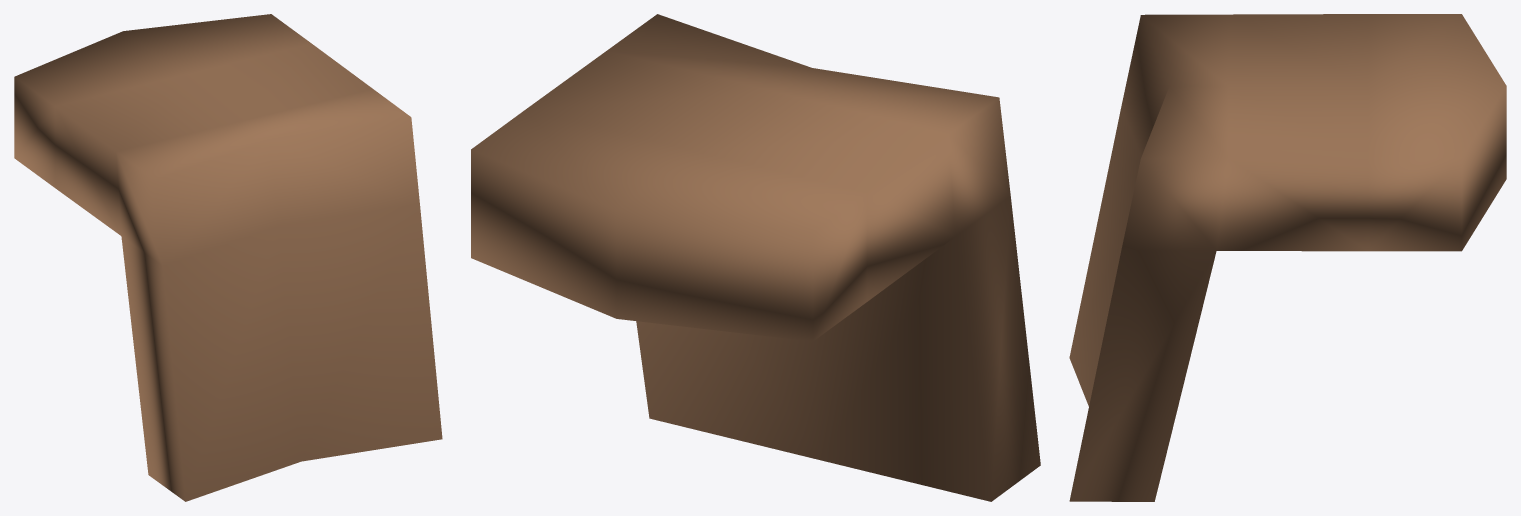
The model's file is Cauldron_Side_01.fbx.
The picture shows the model from 3 angles, left to right: view 1: azimuth 30°, elevation 25°; view 2: azimuth 150°, elevation 25°; view 3: azimuth 270°, elevation 25°; orthographic projection. The views are drawn at different scales.
Visible parts, largest first — view 1: Cauldron_Side_01; view 2: Cauldron_Side_01; view 3: Cauldron_Side_01.
Part boxes in pixels (box(x1,y1,x2,y2)): Cauldron_Side_01: box(14, 14, 442, 501); Cauldron_Side_01: box(471, 14, 1040, 501); Cauldron_Side_01: box(1069, 14, 1506, 501).
Size of the model in its own units: 10.66 by 11.9 by 13.7.
